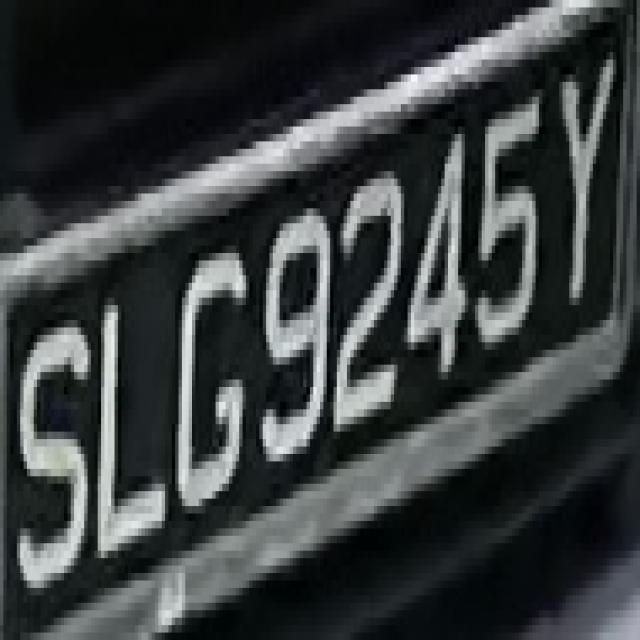2: (337, 149, 407, 446)
4: (401, 97, 475, 394)
5: (472, 82, 539, 350)
9: (260, 186, 334, 491)
G: (175, 238, 253, 528)
L: (88, 275, 172, 573)
S: (13, 298, 91, 610)
Y: (552, 22, 620, 328)
